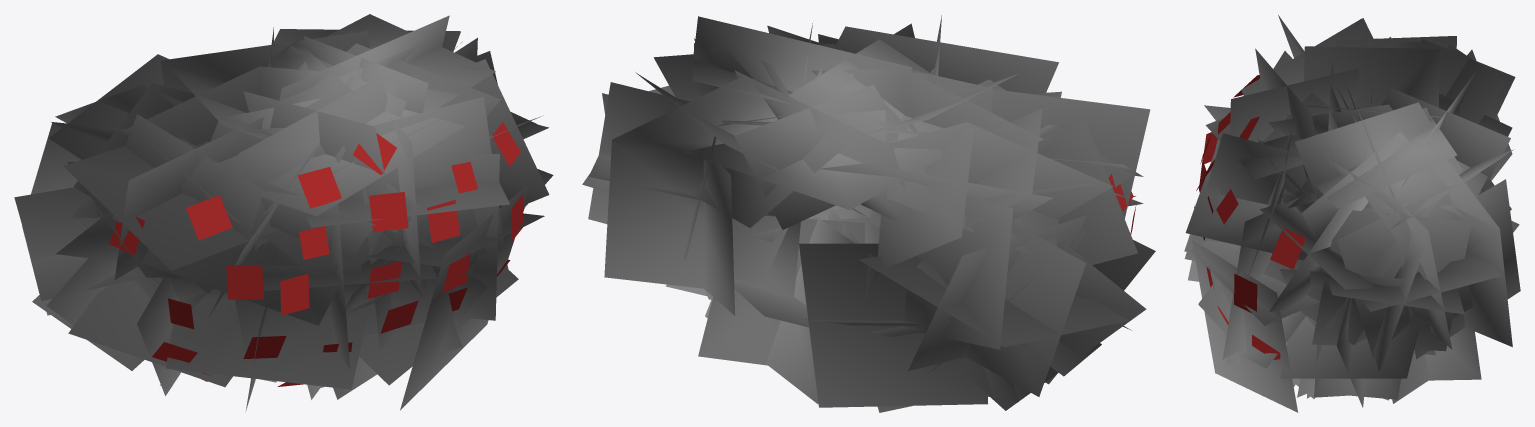
Rendered from SM_flowerbush_01.fbx.
The picture shows the model from 3 angles, left to right: view 1: azimuth 30°, elevation 25°; view 2: azimuth 150°, elevation 25°; view 3: azimuth 270°, elevation 25°; orthographic projection. The views are drawn at different scales.
Visible parts, largest first — view 1: Plane280; view 2: Plane280; view 3: Plane280.
Part boxes in pixels (x1,y1,x2,y2): Plane280: (14,14,553,411); Plane280: (582,15,1155,412); Plane280: (1184,15,1520,412).
Bounding box in the file's own units: 54.55 × 32.86 × 33.83.
